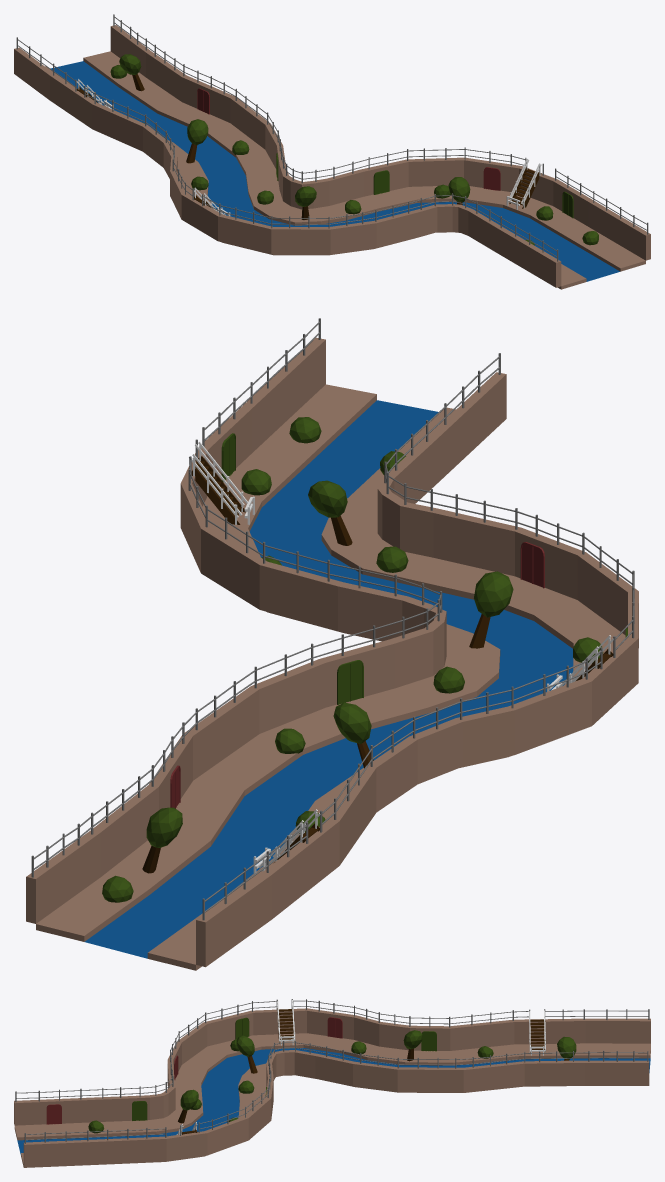
Rendered from Canal.fbx.
The picture shows the model from 3 angles, top to bottom: view 1: azimuth 30°, elevation 25°; view 2: azimuth 150°, elevation 25°; view 3: azimuth 270°, elevation 25°; orthographic projection. The views are drawn at different scales.
Parts seen in each view (by area): view 1: Plane.006; view 2: Plane.006; view 3: Plane.006.
Part boxes in pixels (left/top/right/bottom): Plane.006: left=14, top=14, right=650, bottom=289; Plane.006: left=26, top=318, right=638, bottom=970; Plane.006: left=14, top=999, right=650, bottom=1167.
Bounding box in the file's own units: 1726 × 218 × 3404.
